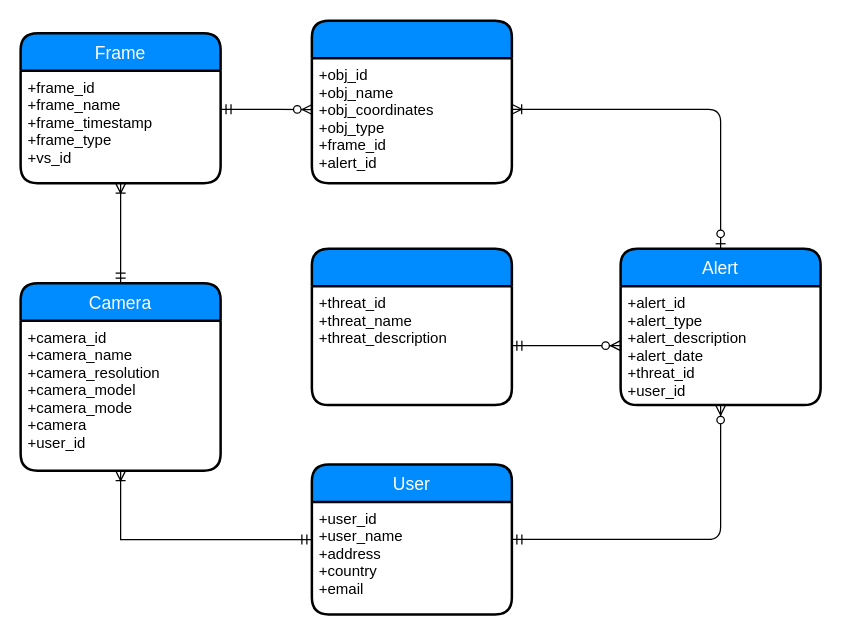
This 841x635 diagram has some shape labels left out. The box of each missing label's shape, as (x1, y1, x2, y2) in pixels:
Object Detection: (310, 19, 512, 184)
Threat Level: (310, 247, 512, 406)
